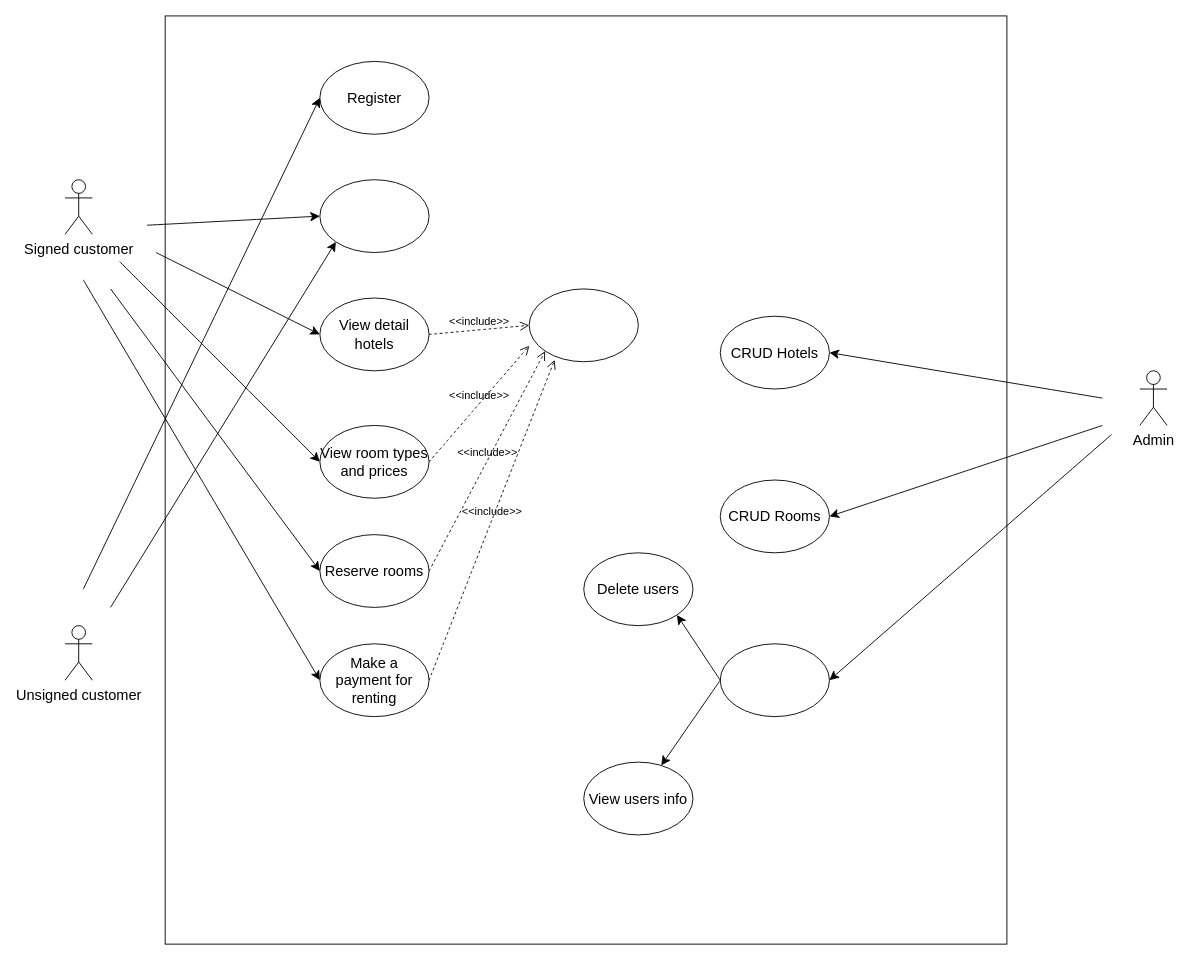
This 1189x960 diagram has some shape labels left out. Each missing label, with the centre of its shape:
Login: point 583,325
Manage users: point 774,680
Search for hotels: point 374,216
